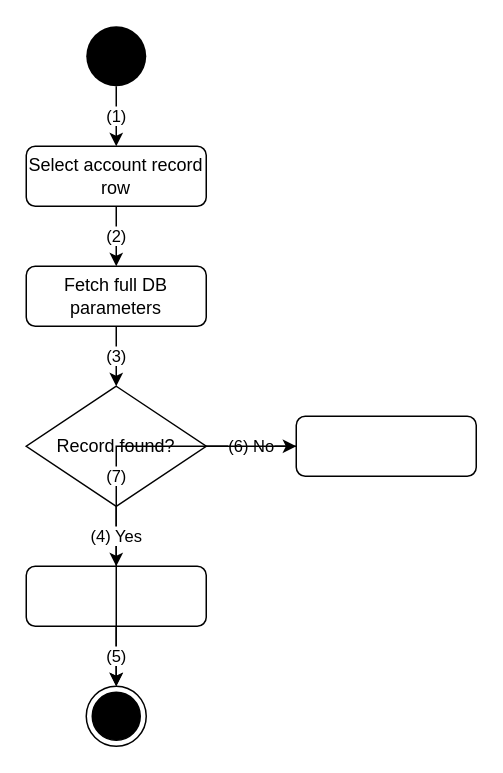
Image size: 503x773. Some labels were removed from this diagram. The shapes that lost their labels are listed below. From the top down, each one's box as (x1, y1, x2, y2) in pixels, then its label:
(295, 415, 476, 476): Flash error banner
(25, 565, 206, 626): Render detailed overlay view
